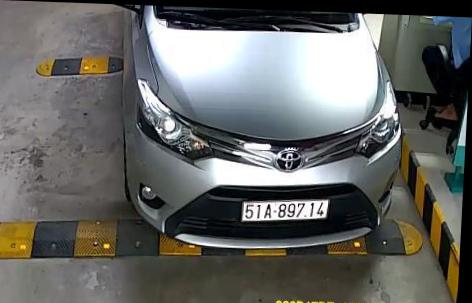License_Plate: (239, 191, 335, 228)
